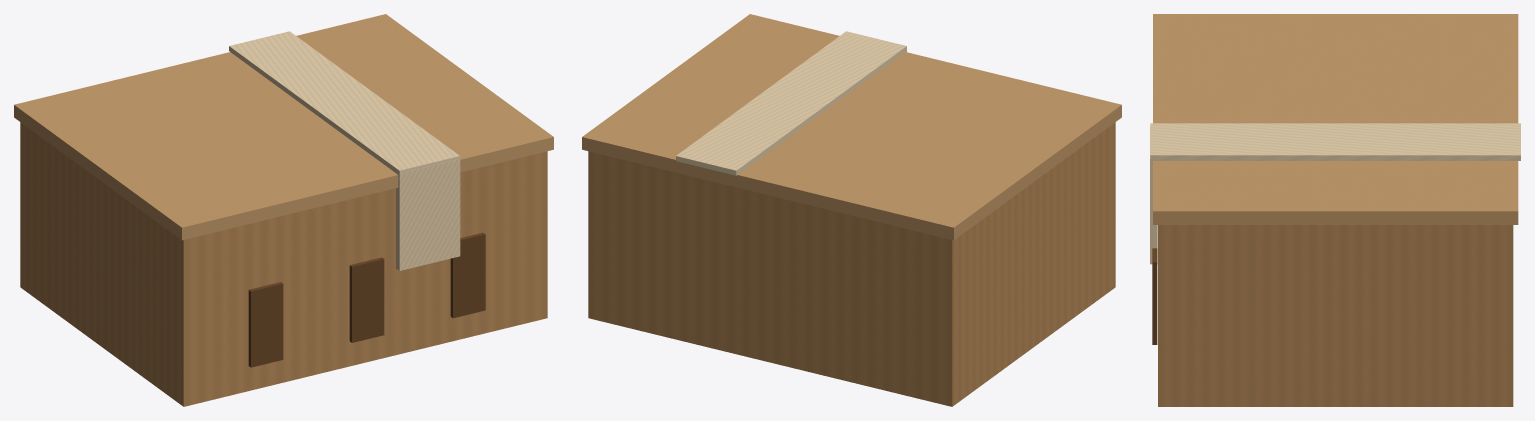
File: roof-box.fbx
3 renders of one model, left to right at view 1: azimuth 30°, elevation 25°; view 2: azimuth 150°, elevation 25°; view 3: azimuth 270°, elevation 25°, orthographic. The views are drawn at different scales.
Visible parts, largest first — view 1: roof-box; view 2: roof-box; view 3: roof-box.
Boxes of the visible parts, left/top/right/bottom form: roof-box: left=14, top=14, right=553, bottom=406; roof-box: left=582, top=14, right=1121, bottom=406; roof-box: left=1150, top=14, right=1520, bottom=406.
Size of the model in its own units: 920 by 442 by 731.
1 material, 1 textured.
